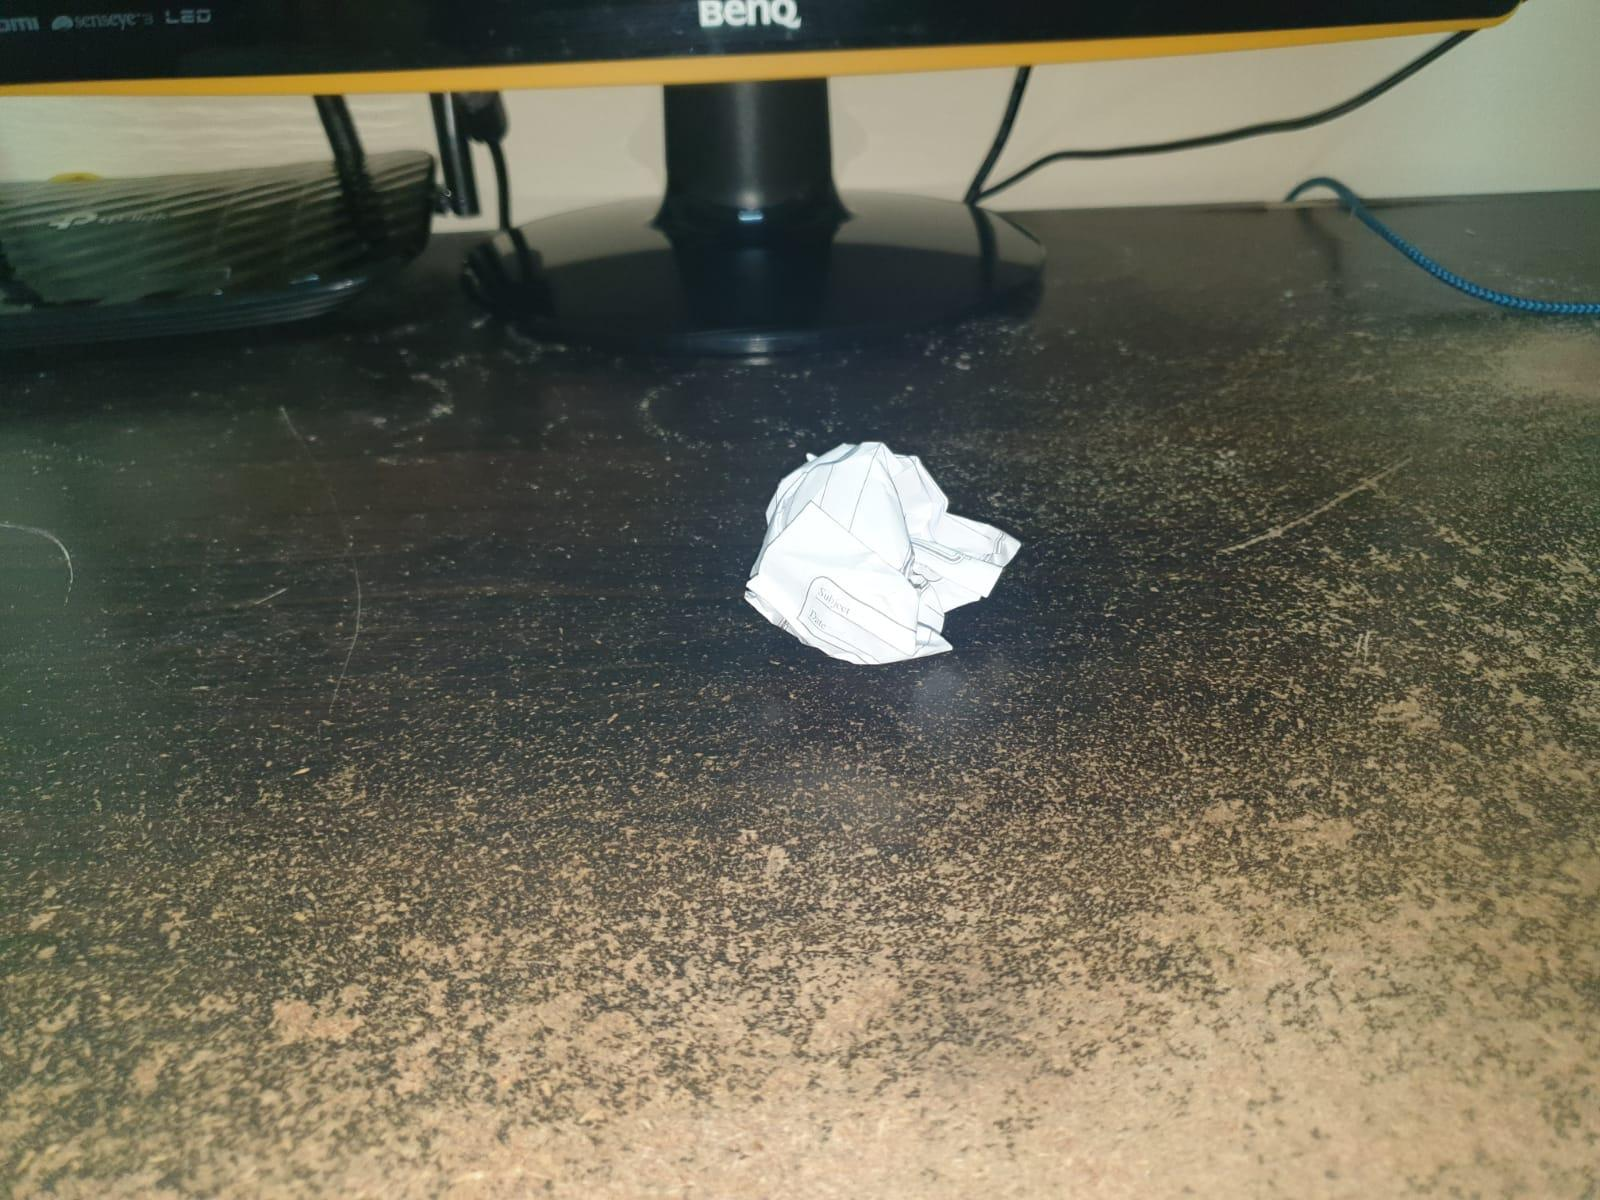Paper: (743, 433, 1032, 668)
